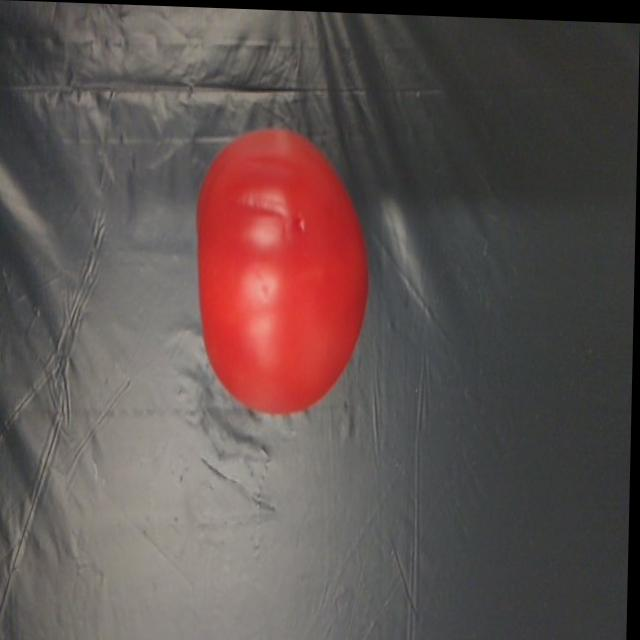kirmizi: (180, 119, 398, 429)
